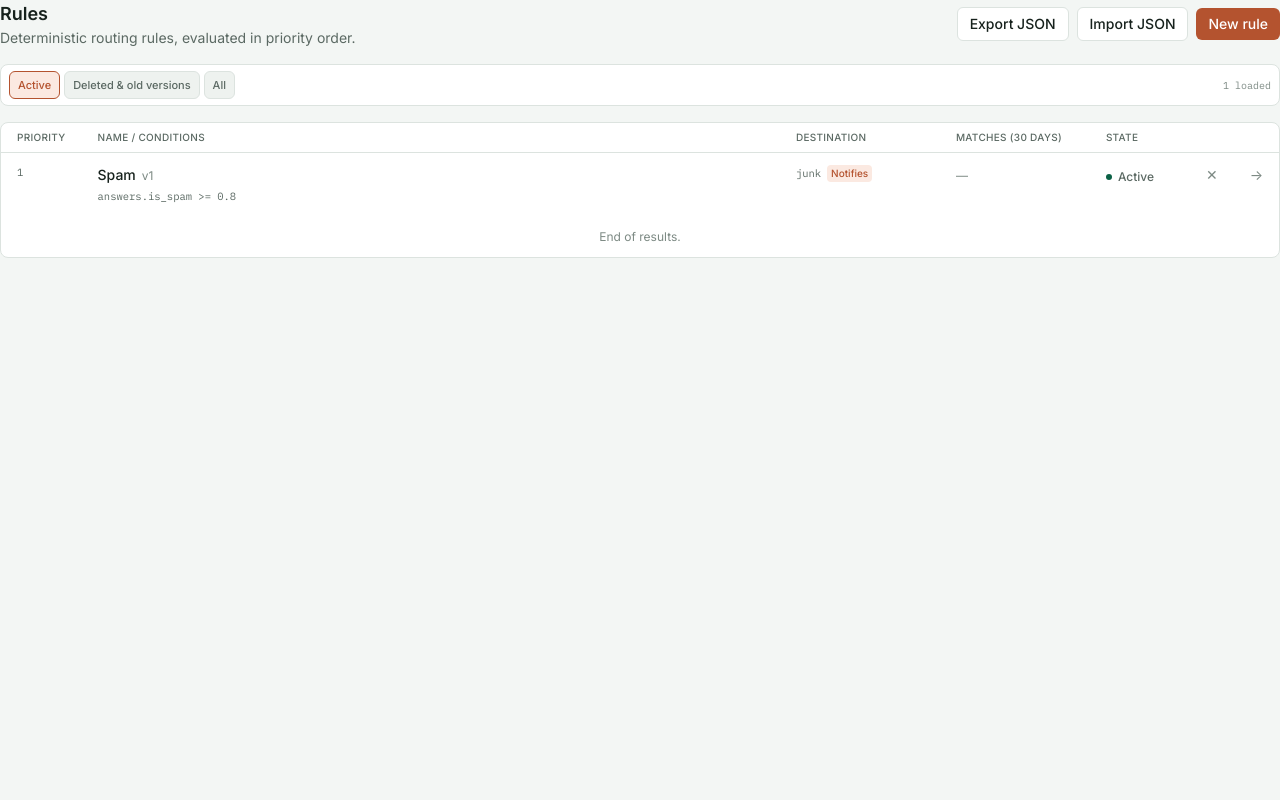
Test: Rules page — delete › lists only active rules by default and deletes one after confirmation
Expected: the link "Spam" is shown, top-left (98, 166), bottom-right (153, 183)
Expected: the text "Notifies" is shown, top-left (827, 165), bottom-right (872, 182)
Step 1. Click the button named "Delete rule Spam" → (1212, 175), box top-left (1206, 165), bottom-right (1218, 185)
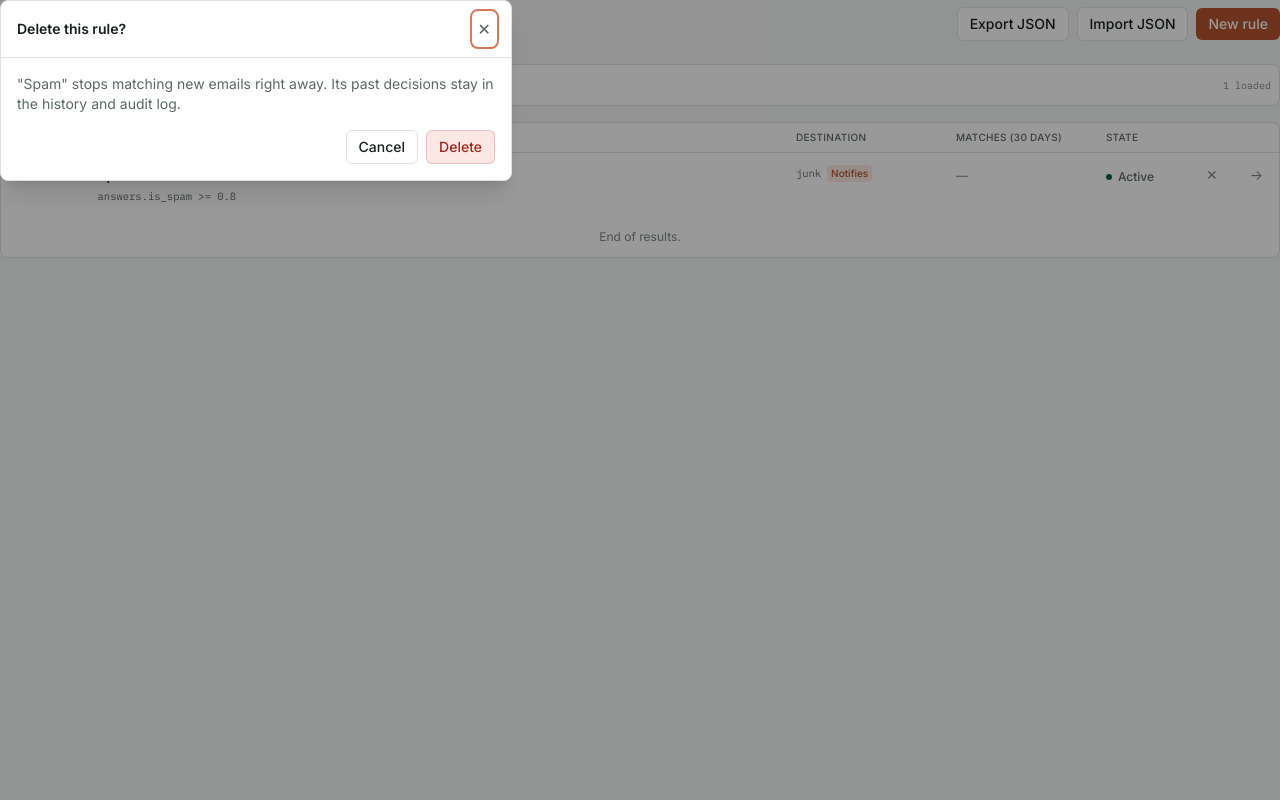
Result: the heading "Delete this rule?" is shown at top-left (17, 19), bottom-right (126, 39)
Step 2. Click the button "Delete" → (461, 147), box top-left (426, 130), bottom-right (495, 164)
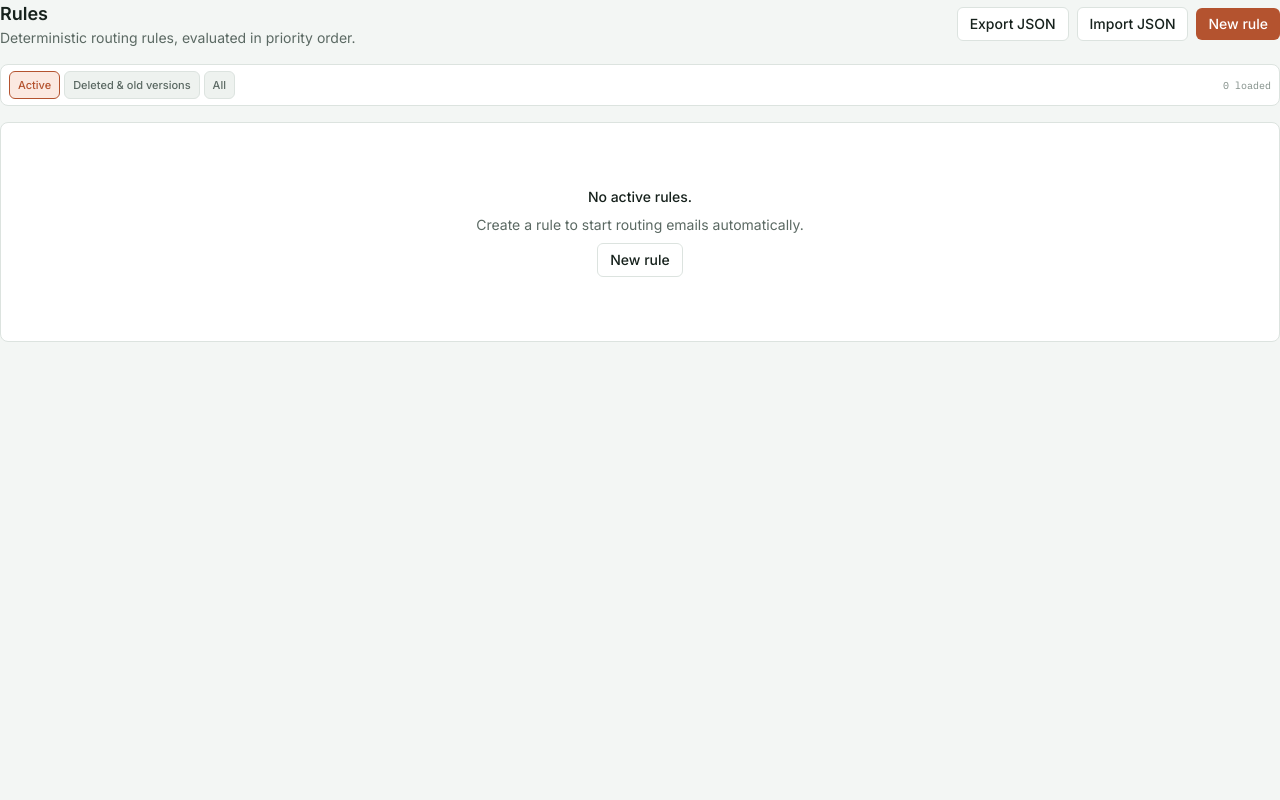
Result: the link "Spam" is gone
